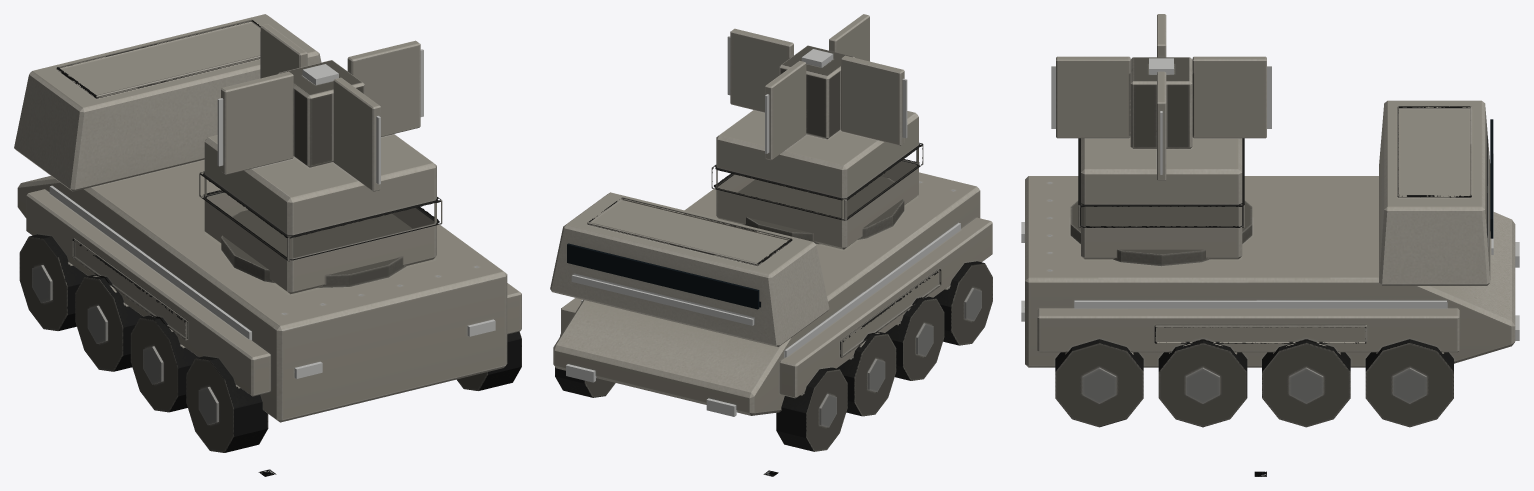
Rendered from ord_veil.fbx.
The picture shows the model from 3 angles, left to right: view 1: azimuth 30°, elevation 25°; view 2: azimuth 150°, elevation 25°; view 3: azimuth 270°, elevation 25°; orthographic projection. The views are drawn at different scales.
Visible parts, largest first — view 1: base_bar, array_bar, base_glow_running_bar, array_glow_power_bar, array_glow_running_bar; view 2: base_bar, array_bar, base_glow_running_bar, array_glow_power_bar, base_glow_head_bar; view 3: base_bar, array_bar, base_glow_running_bar, array_glow_power_bar.
Part boxes in pixels (x1=…): base_bar: x1=14, y1=14, x2=521, y2=452; array_bar: x1=199, y1=24, x2=442, y2=294; base_glow_running_bar: x1=49, y1=185, x2=495, y2=378; array_glow_power_bar: x1=217, y1=32, x2=423, y2=184; array_glow_running_bar: x1=302, y1=64, x2=338, y2=85; base_bar: x1=550, y1=172, x2=992, y2=451; array_bar: x1=711, y1=14, x2=923, y2=249; base_glow_running_bar: x1=571, y1=223, x2=960, y2=357; array_glow_power_bar: x1=727, y1=36, x2=907, y2=153; base_glow_head_bar: x1=566, y1=364, x2=736, y2=416; base_bar: x1=1025, y1=100, x2=1515, y2=427; array_bar: x1=1056, y1=14, x2=1266, y2=259; base_glow_running_bar: x1=1021, y1=154, x2=1493, y2=321; array_glow_power_bar: x1=1051, y1=66, x2=1271, y2=174.
Bounding box in the file's own units: 508 × 740 × 803.
Materials: 2 (2 with a texture image).
